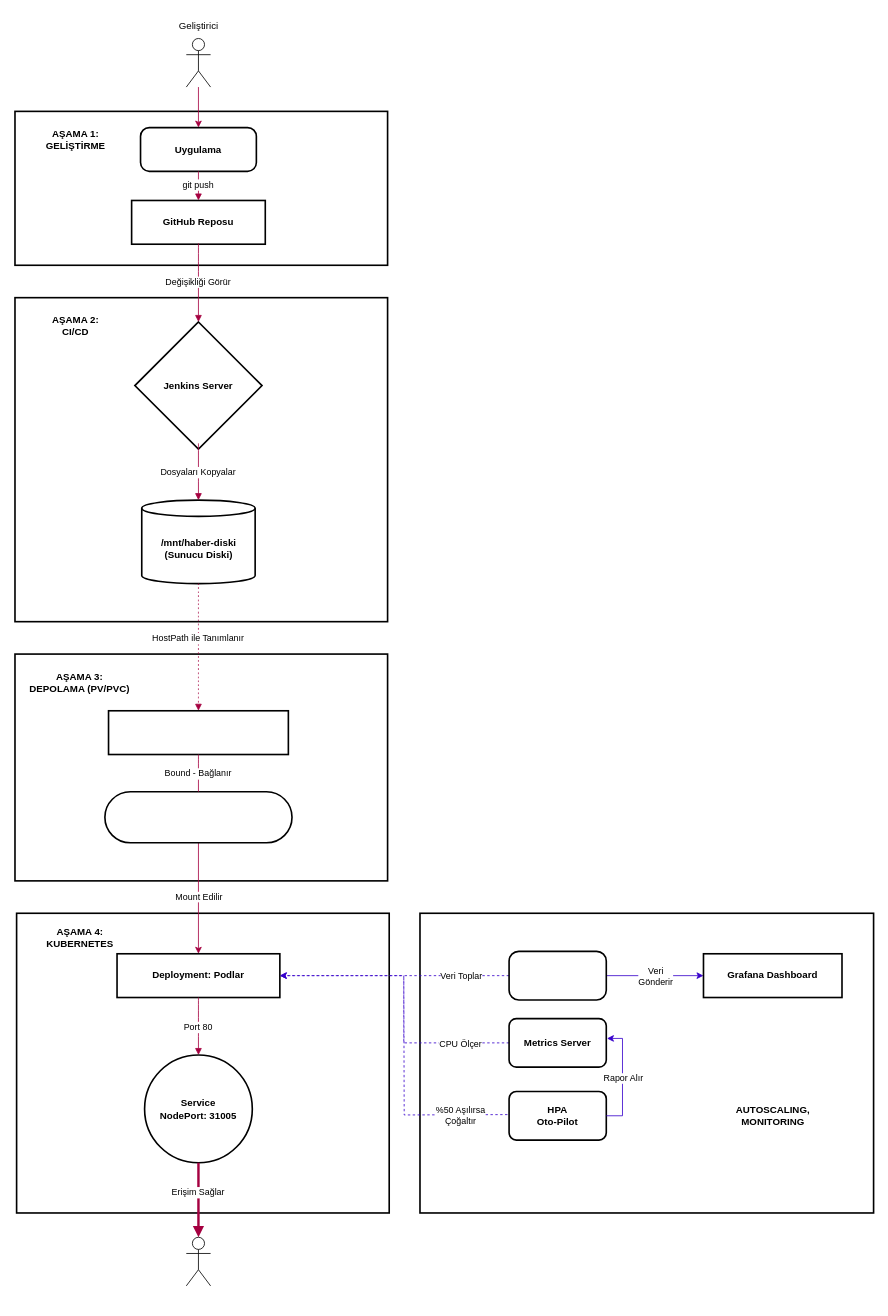
Some shapes in this 888 by 1316 pixel diagram are drawn without their labels. Each missing label, with the centre of its shape:
"Persistent Volume - PV" goes at [198,732].
"Persistent Volume Claim - PVC" goes at [198,817].
"Prometheus" goes at [557,975].
"Tarayıcı / Son Kullanıcı" goes at [198,1261].
